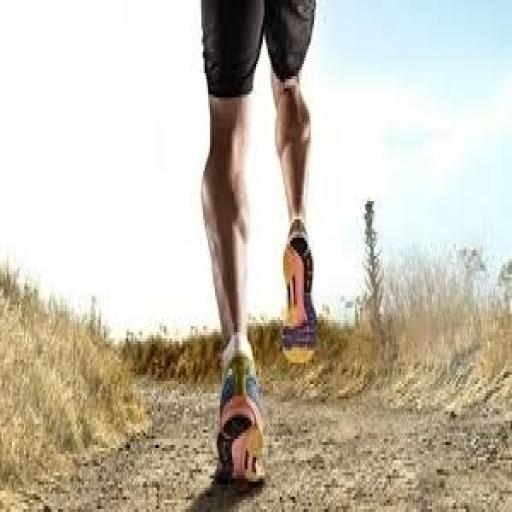running: (196, 0, 323, 488)
